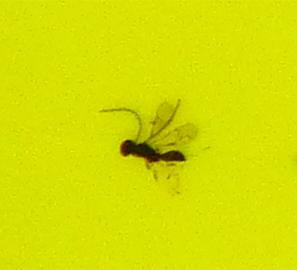Hymenoptera: (100, 100, 197, 170)
